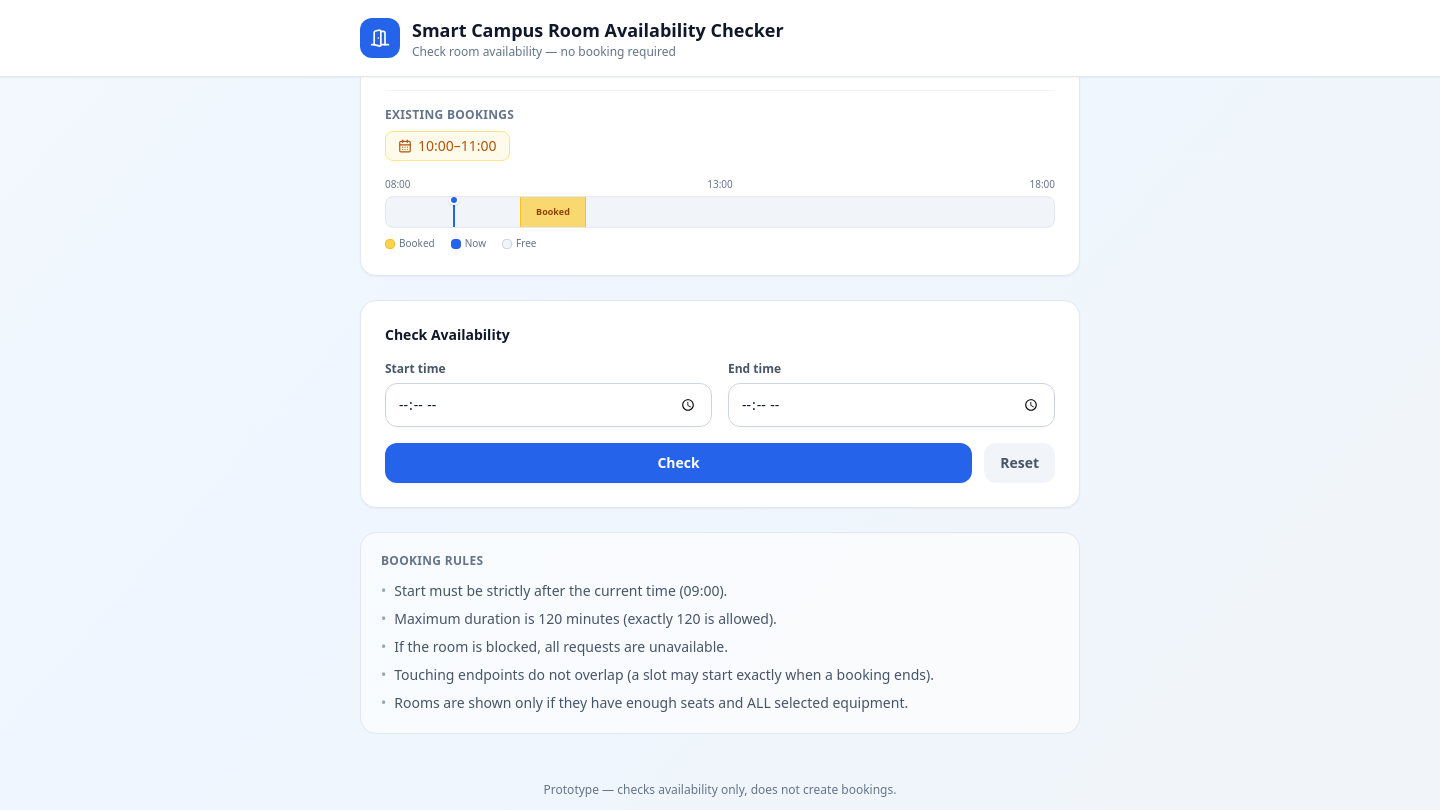
Test: Review fix F1: no stale result after editing a time › after editing, Check gives the result for the new times
(page scrolled)
Type "11:00" into the time field labelled "Start time".
click(548, 405); type("11:00")  # box [385, 383, 712, 427]
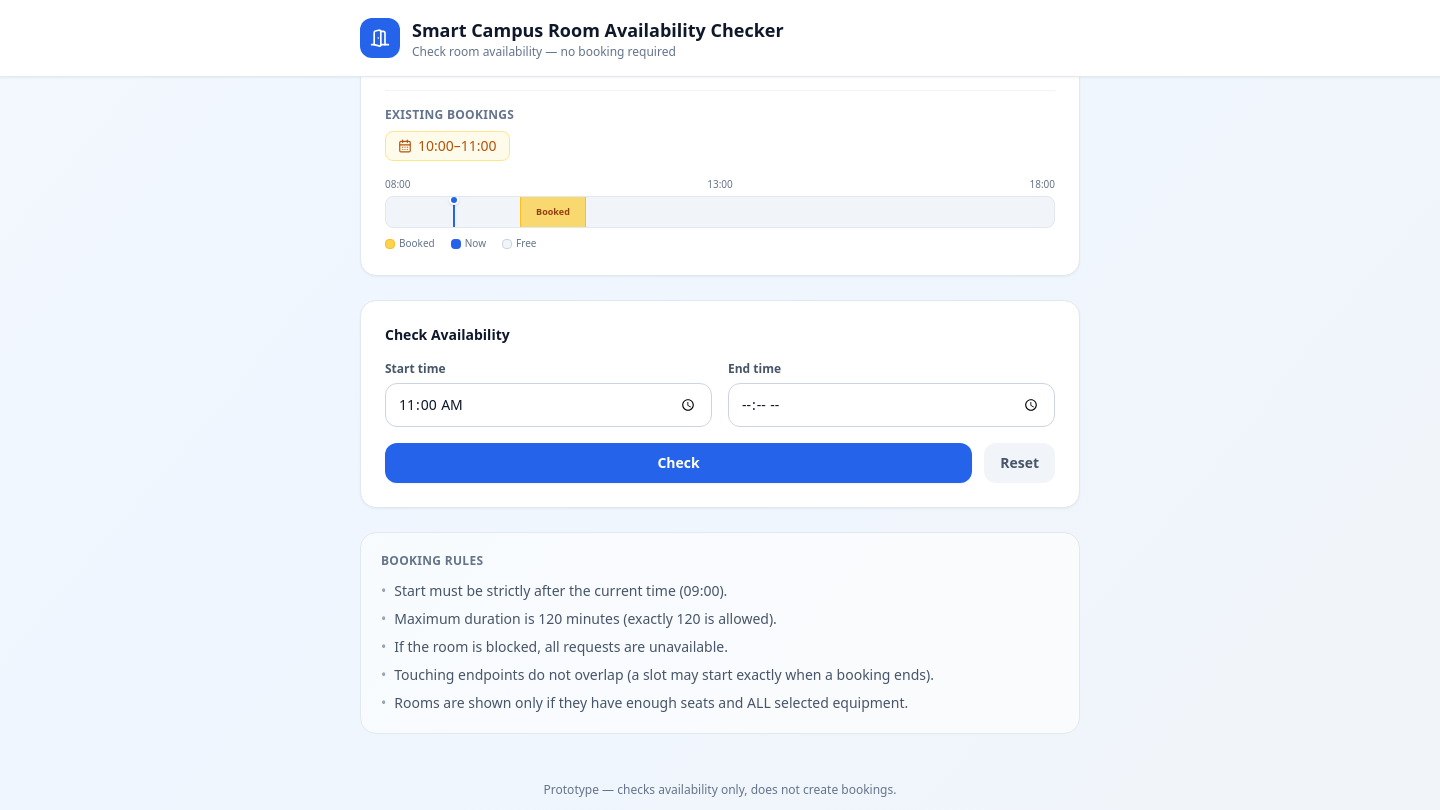
Type "12:00" into the time field labelled "End time".
click(892, 405); type("12:00")  # box [728, 383, 1055, 427]
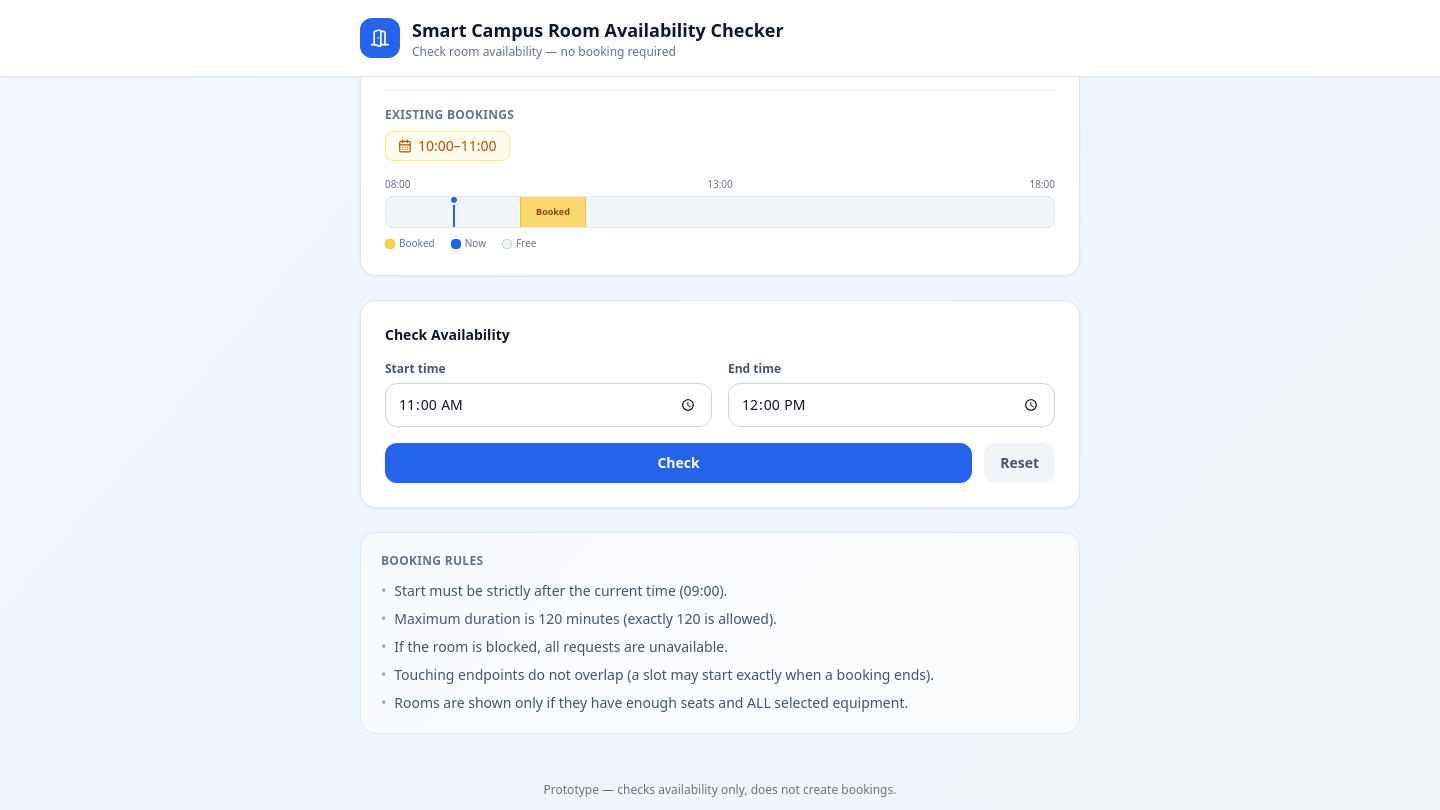
Click the button "Check".
click(679, 463)  # box [385, 443, 972, 483]
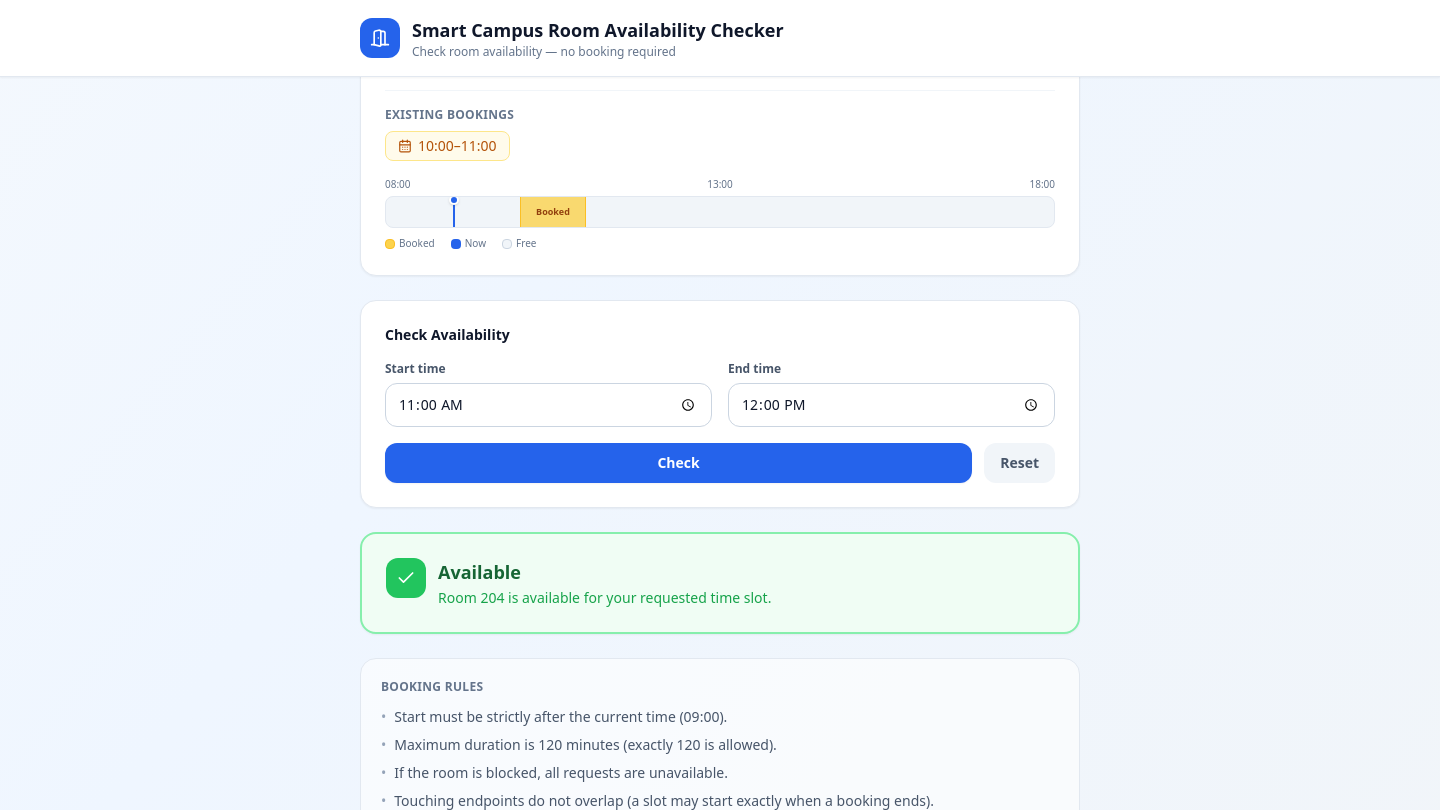
Replace the text in the time field labelled "Start time" with "10:30" at coordinates (548, 405), box [385, 383, 712, 427]
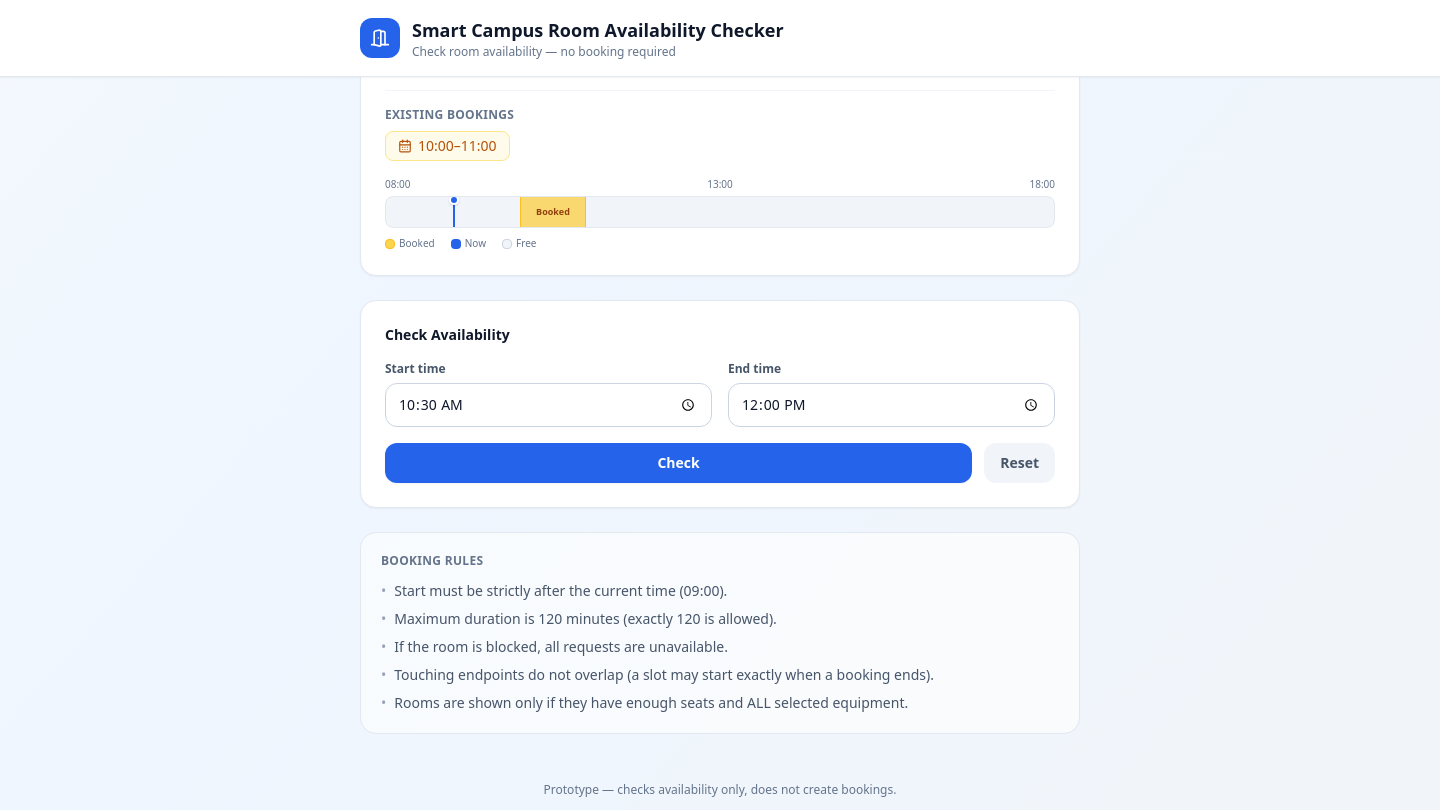
Replace the text in the time field labelled "End time" with "11:30" at coordinates (892, 405), box [728, 383, 1055, 427]
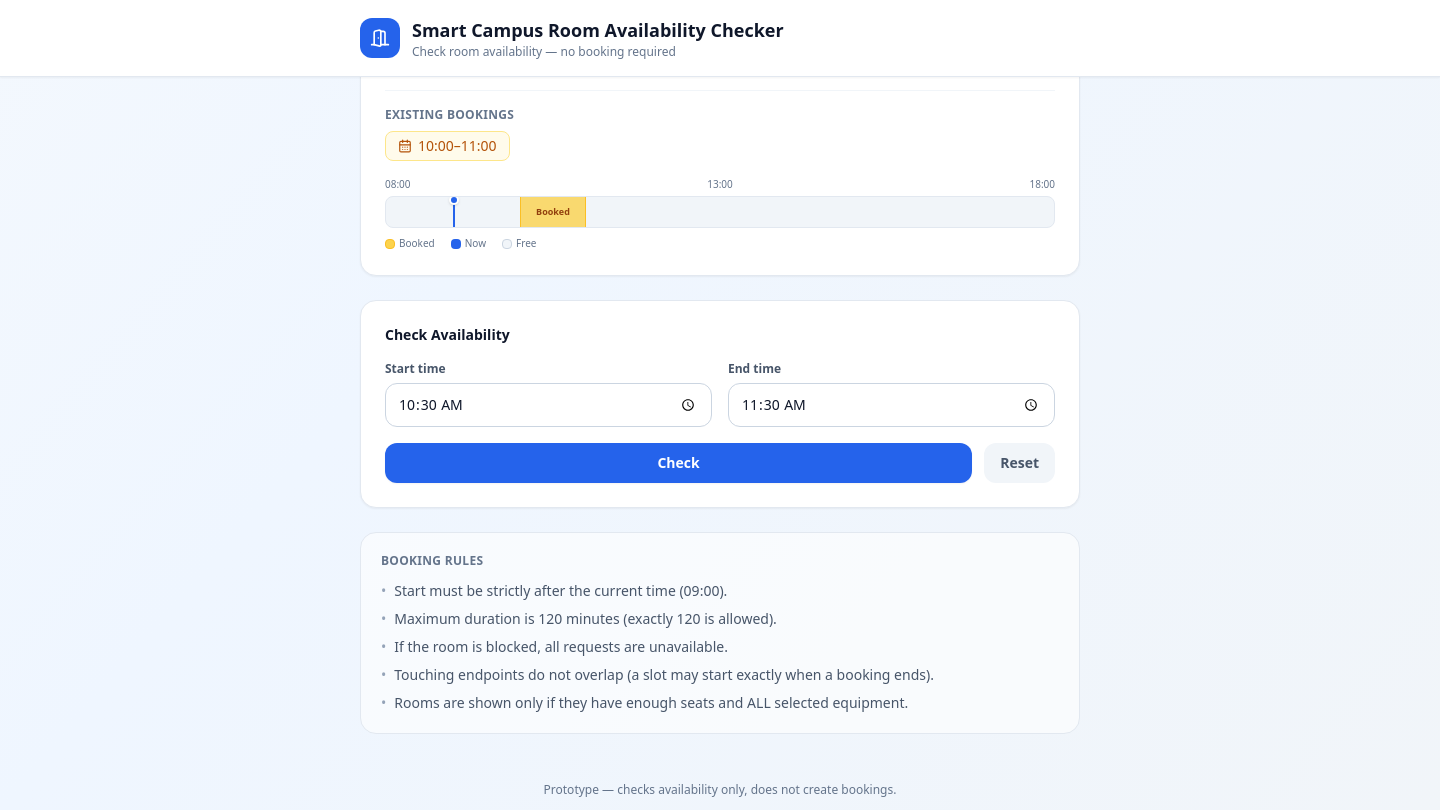
Click the button "Check".
click(679, 463)  # box [385, 443, 972, 483]
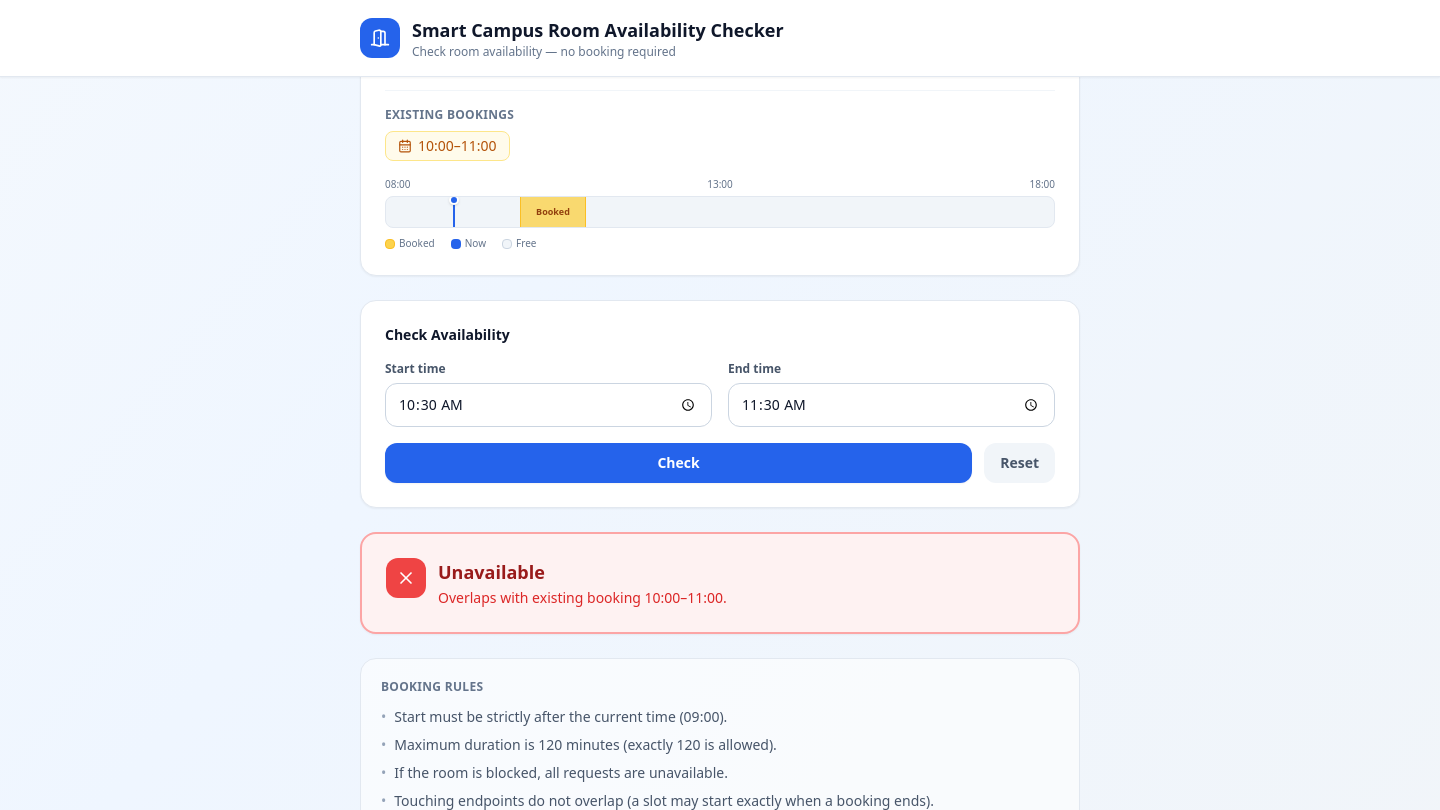
Expected: the heading "Unavailable" is shown, [438, 560, 545, 584]
Expected: the text "Overlaps with existing booking 10:00–11:00." is shown, [438, 588, 727, 607]
